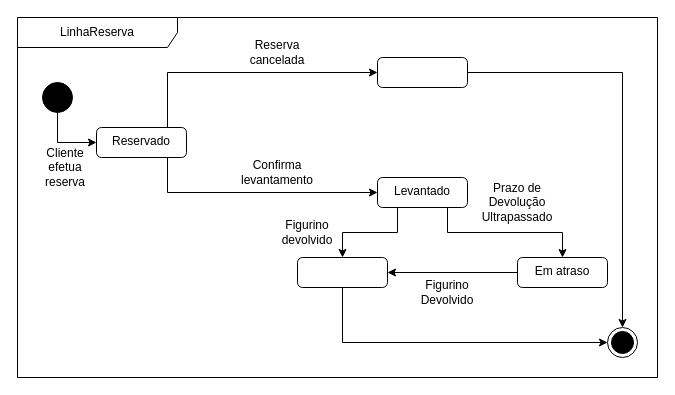
The diagram is 675 pixels wide and 395 high, and some of its shapes have lost their labels. Each missing label, with the centre of its shape:
Cancelado: the point at 422,72
Devolvido: the point at 342,272
